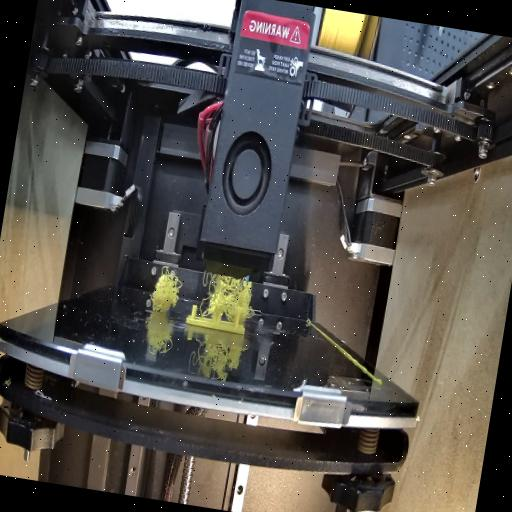spaghetti: (199, 268, 255, 322), (144, 270, 182, 319)
